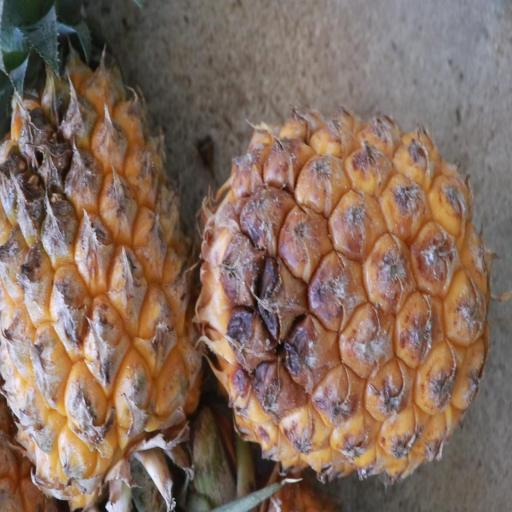Pineapple - v8 v1: (203, 116, 498, 490), (0, 4, 213, 512)
